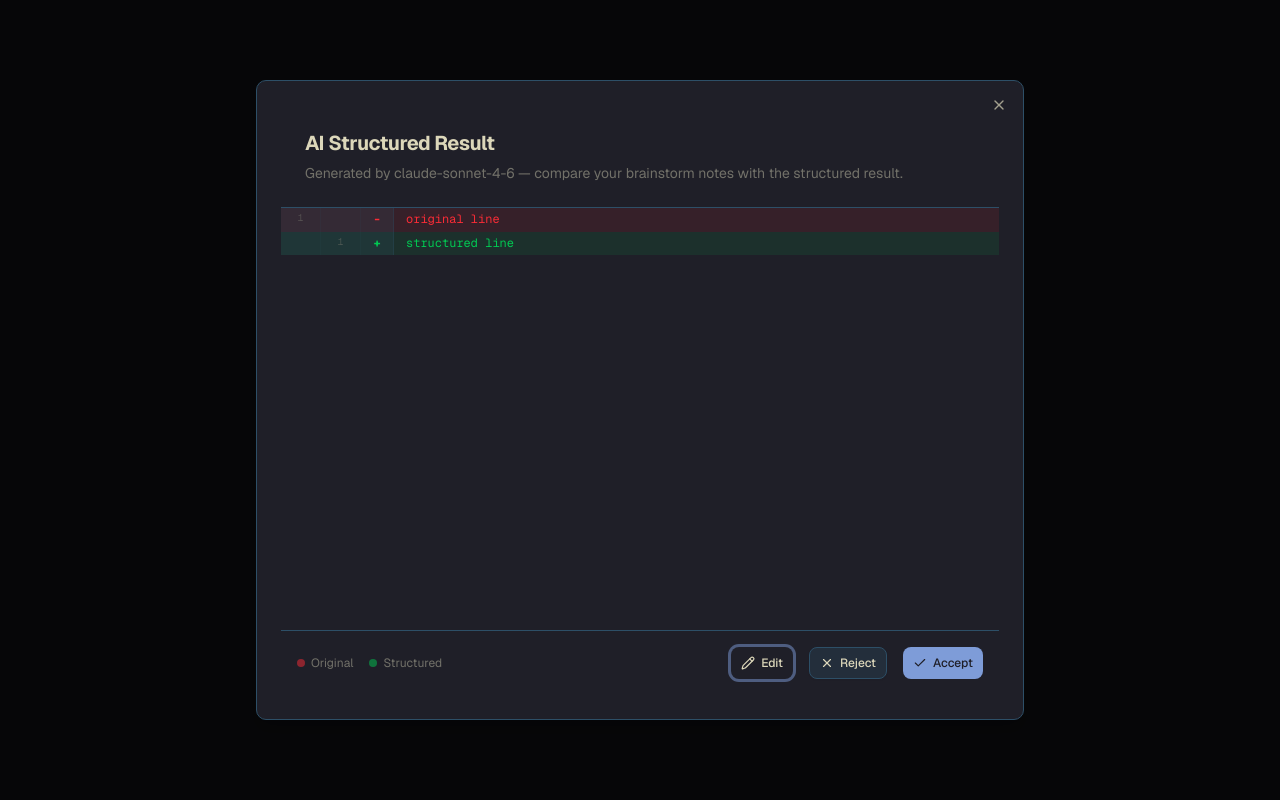
DiffDialog › switches to edit mode when Edit is clicked
The width and height of the screenshot is (1280, 800).
Expected: the text "Edit" is shown, [761,655,783,671]
Click the button "Edit" at (762, 663), box [731,647,793,679]
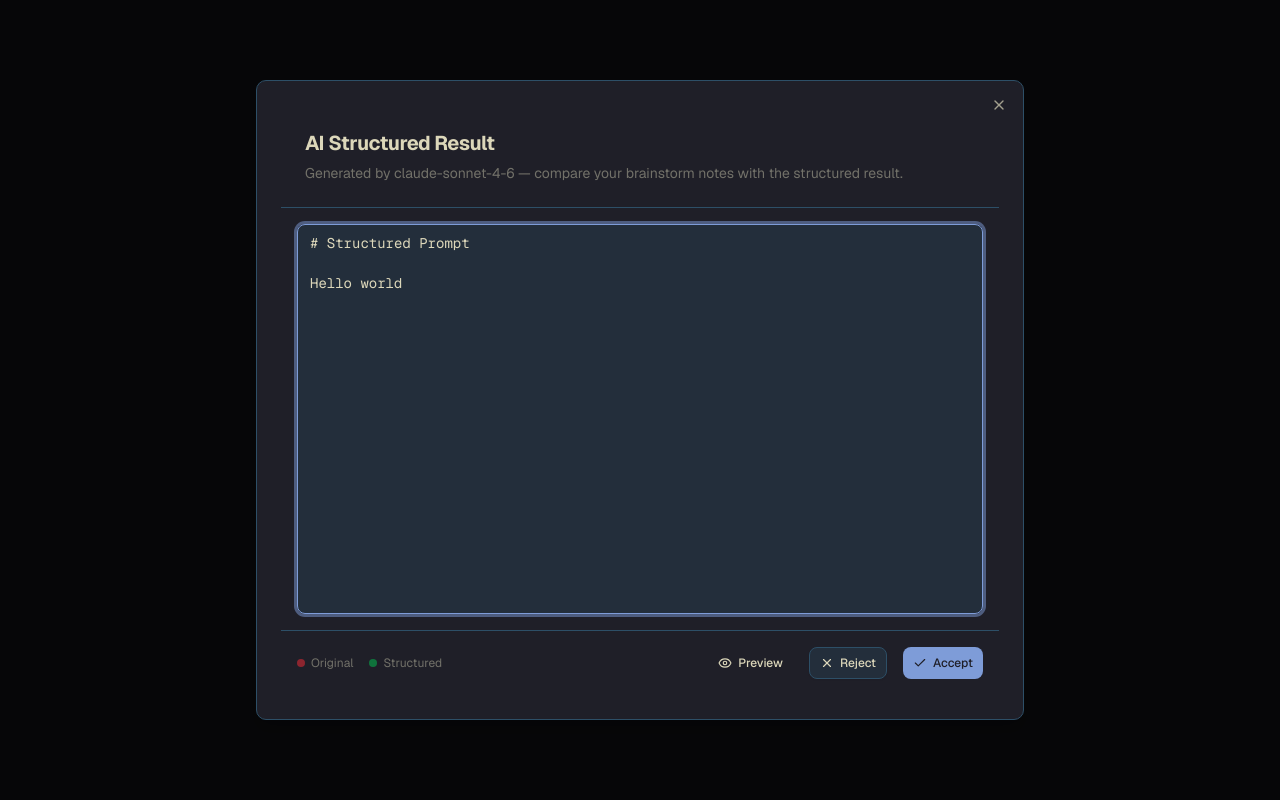
Now the text "Preview" is shown, box [738,655,783,671]
Now the text box is shown, box [297,224,983,614]
